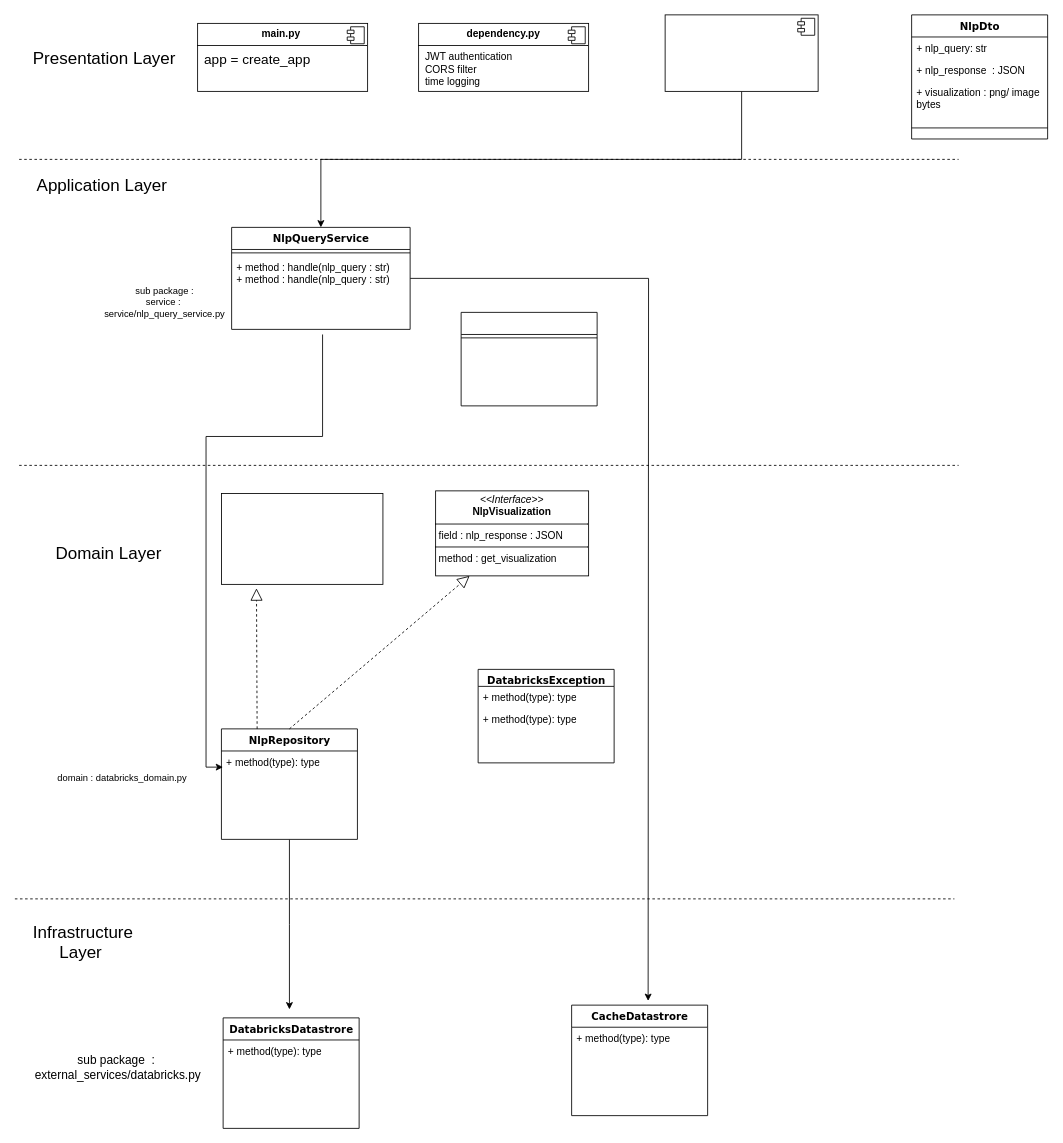
The diagram is 1063 pixels wide and 1143 high, and some of its shapes have lost their labels. Here are the shapes that lost their labels. From the top down, the centre of each, then its label:
At pixel 741 52: "routes/nlp_router/py Endpoint : nlp/query".
At pixel 528 359: "NlpException".
At pixel 302 538: "<<Interface>> NlpDatastore filed : nlp_query : str method : get_nlp_response".
